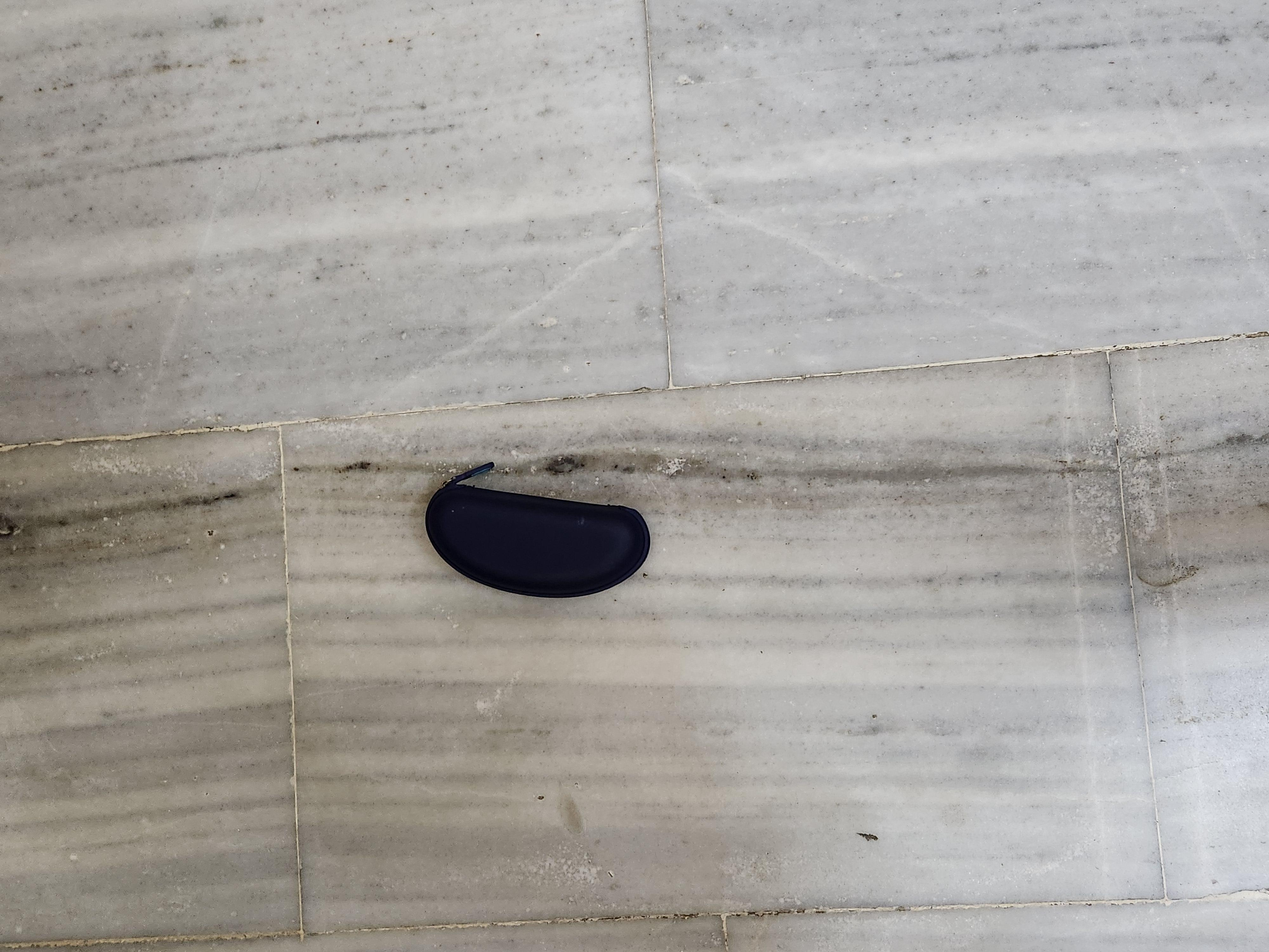case: (470, 315, 651, 488)
